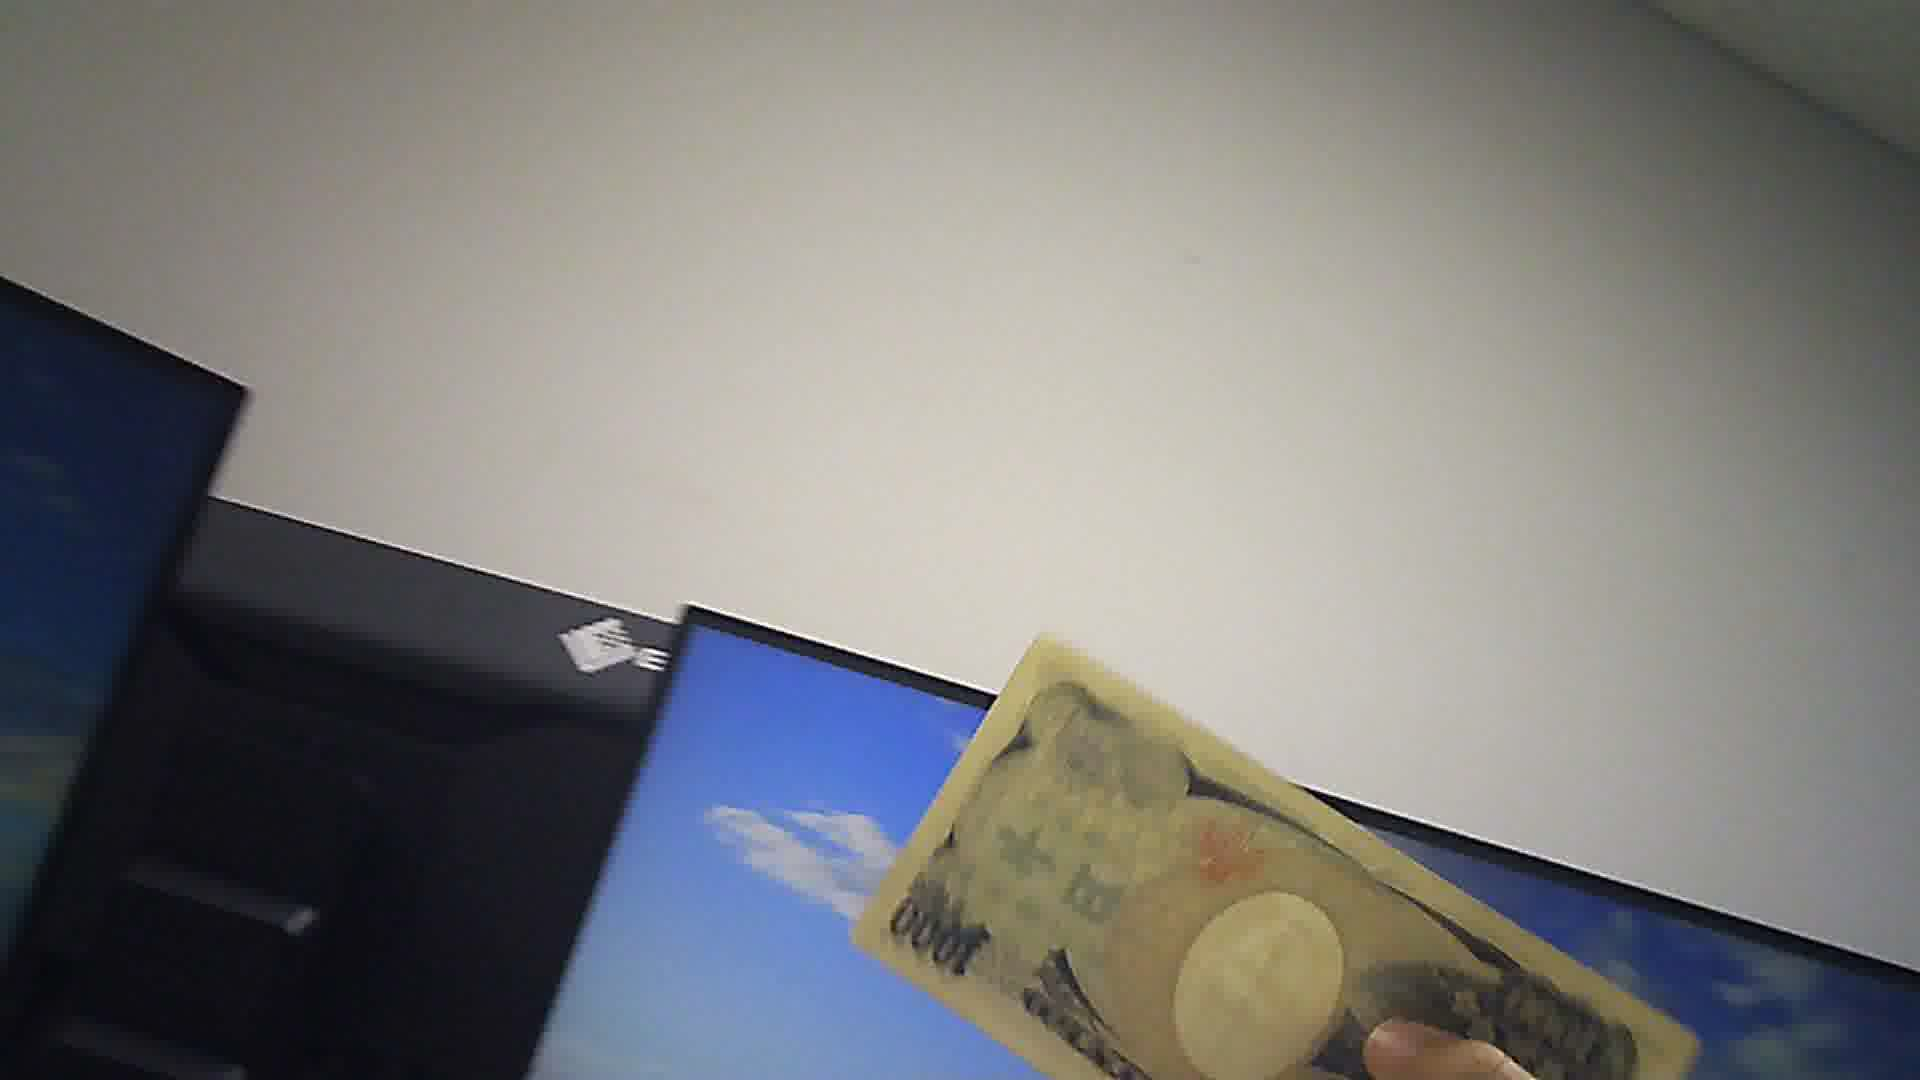1,000 Yen: (853, 628, 1691, 1079)
